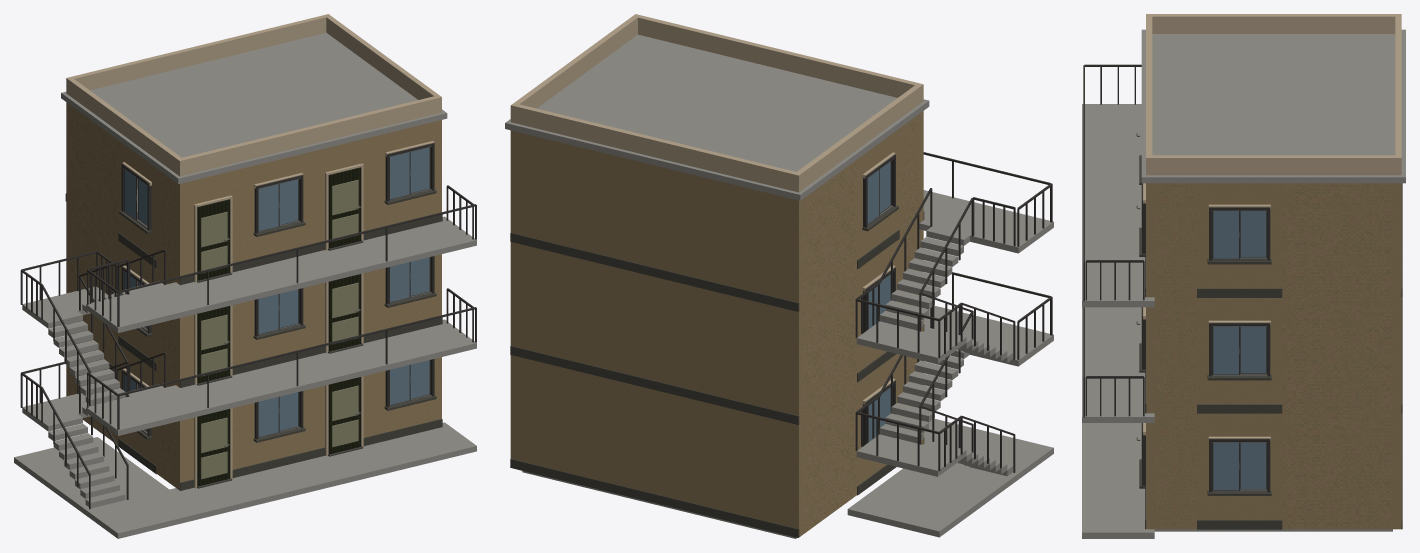
Rendered from MS_PF_03_ThreeStoreyApartment.glb.
3 views of the same model, side by side, from view 1: azimuth 30°, elevation 25°; view 2: azimuth 150°, elevation 25°; view 3: azimuth 270°, elevation 25° (orthographic). The views are drawn at different scales.
Visible parts, largest first — view 1: StaticBatch20, StaticBatch18, StaticBatch10, StaticBatch27, StaticBatch6, StaticBatch2, StaticBatch28, StaticBatch16, StaticBatch17, Plaster_0055, Plaster_0056, StaticBatch26 (+36 smaller); view 2: StaticBatch10, StaticBatch6, StaticBatch2, StaticBatch18, StaticBatch27, StaticBatch20, StaticBatch17, StaticBatch16, StaticBatch26, StaticBatch25, StaticBatch8, StaticBatch4 (+4 smaller); view 3: StaticBatch18, StaticBatch20, StaticBatch2, StaticBatch6, StaticBatch10, StaticBatch27, StaticBatch28, StaticBatch11, StaticBatch7, Glass4, Glass8, StaticBatch3 (+8 smaller).
Part boxes in pixels (x1,y1,x2,y2): StaticBatch20: (14, 216, 476, 538); StaticBatch18: (61, 32, 447, 183); StaticBatch10: (66, 102, 441, 281); StaticBatch27: (66, 14, 441, 176); StaticBatch6: (66, 202, 441, 384); StaticBatch2: (66, 317, 441, 487); StaticBatch28: (87, 185, 476, 429); StaticBatch16: (22, 384, 164, 508); StaticBatch17: (22, 282, 163, 405); Plaster_0055: (176, 168, 245, 284); Plaster_0056: (311, 136, 376, 243); StaticBatch26: (20, 249, 165, 406); StaticBatch10: (510, 114, 919, 310); StaticBatch6: (510, 225, 918, 423); StaticBatch2: (510, 354, 918, 536); StaticBatch18: (505, 34, 929, 200); StaticBatch27: (510, 14, 923, 192); StaticBatch20: (847, 190, 1053, 537); StaticBatch17: (856, 226, 1012, 363); StaticBatch16: (856, 349, 1012, 476); StaticBatch26: (855, 188, 1015, 359); StaticBatch25: (855, 307, 1015, 472); StaticBatch8: (510, 346, 799, 424); StaticBatch4: (510, 459, 799, 537); StaticBatch18: (1141, 29, 1405, 183); StaticBatch20: (1082, 104, 1154, 538); StaticBatch2: (1146, 413, 1401, 529); StaticBatch6: (1146, 297, 1401, 413); StaticBatch10: (1146, 183, 1401, 297); StaticBatch27: (1146, 14, 1401, 175); StaticBatch28: (1083, 64, 1144, 417); StaticBatch11: (1139, 155, 1282, 297); StaticBatch7: (1139, 343, 1282, 413); Glass4: (1240, 442, 1266, 489); Glass8: (1240, 326, 1266, 373); StaticBatch3: (1139, 459, 1282, 529).
Bounding box in the file's own units: 10.97 × 9.77 × 7.6.
Materials: 20 (5 with a texture image).
